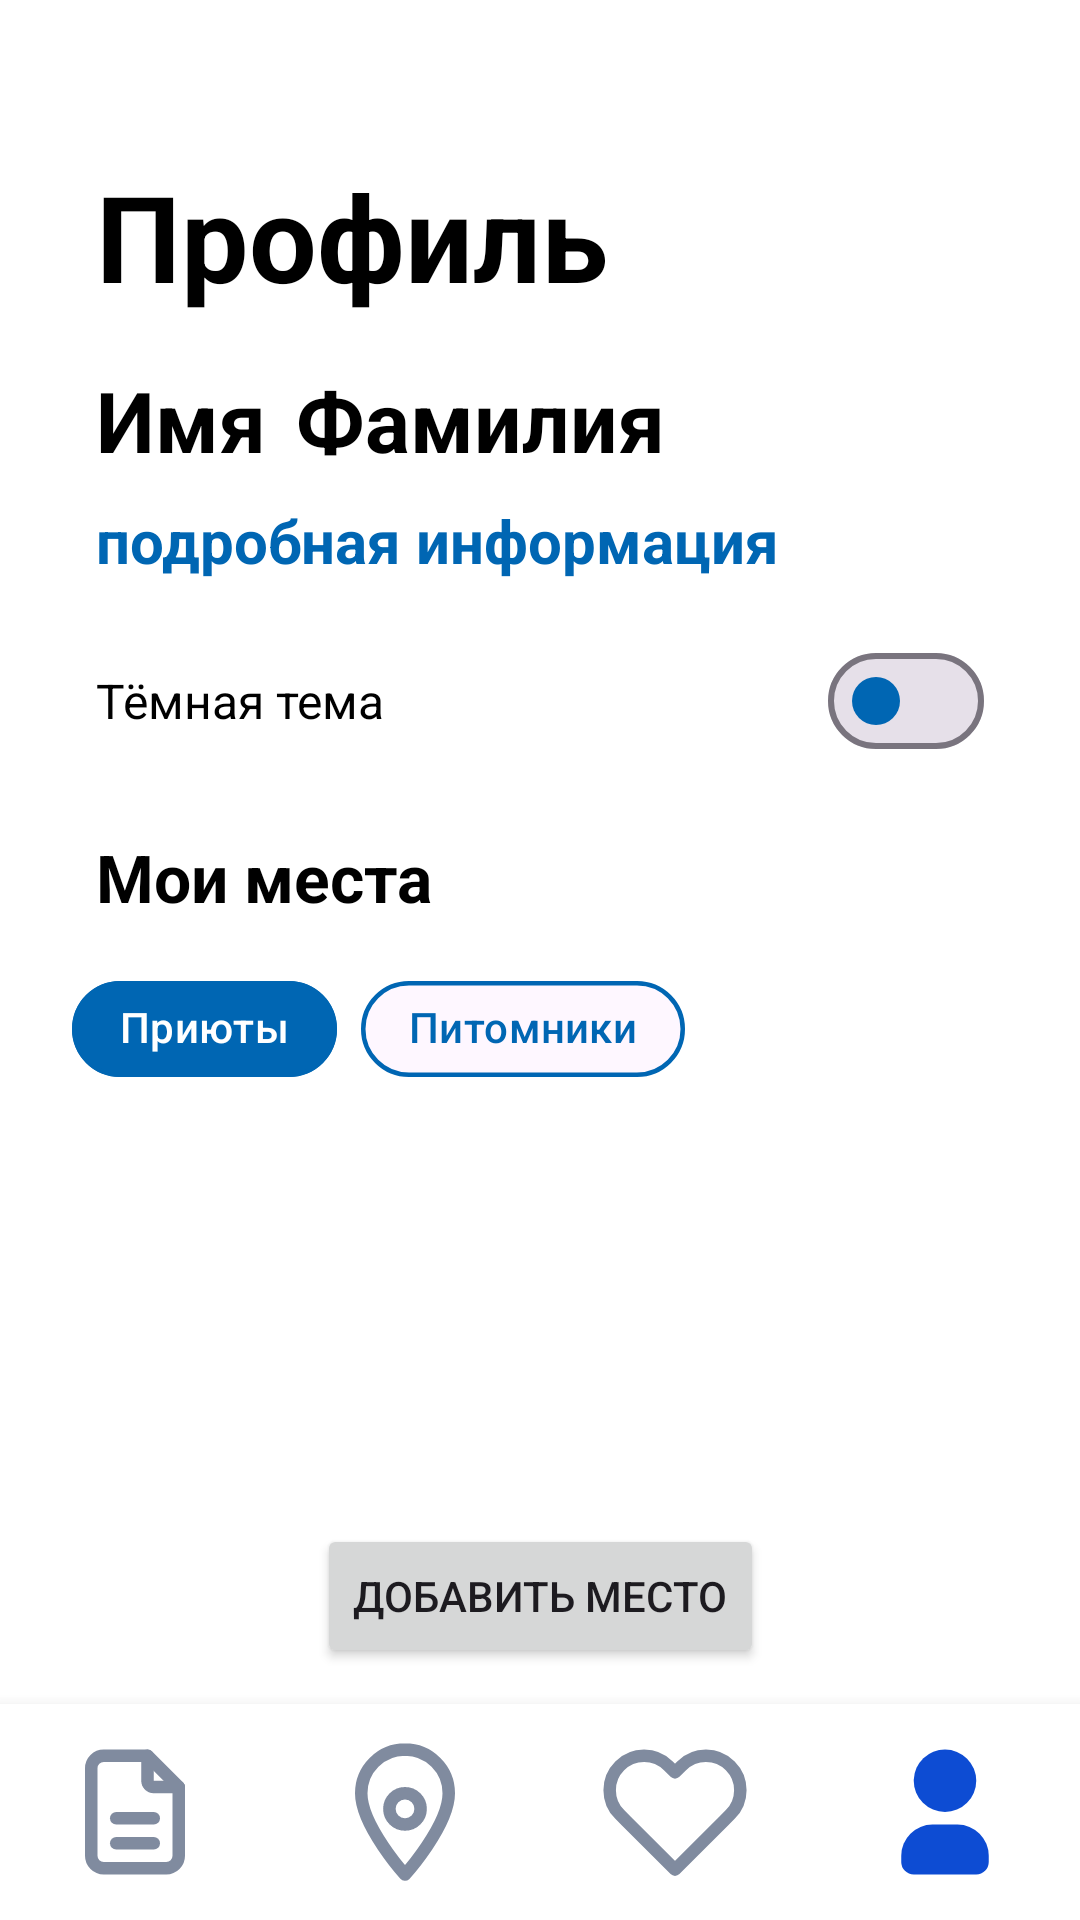

Icons on this 1080 × 1920 Android screen, each with the point to tap as (x,y):
news: (135,1812)
places: (405,1812)
profileselected: (945,1812)
recommendations: (675,1812)
